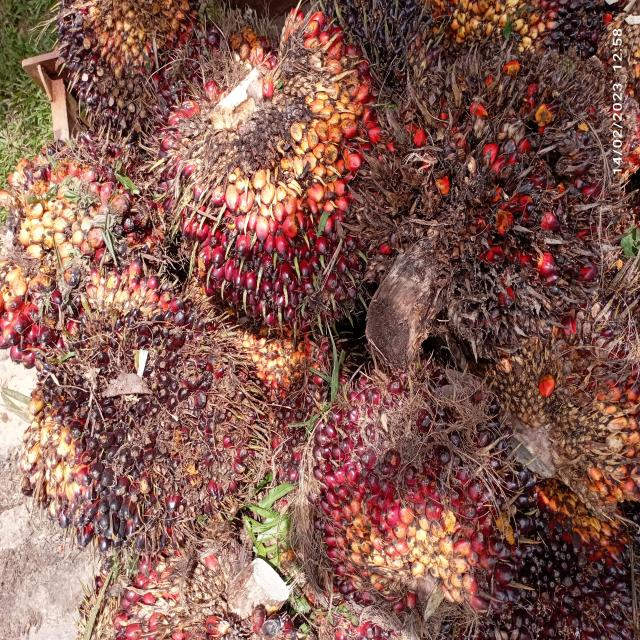fraksi 1: (146, 0, 434, 316), (15, 240, 296, 562), (301, 322, 523, 628)
fraksi 4: (408, 9, 621, 370)
